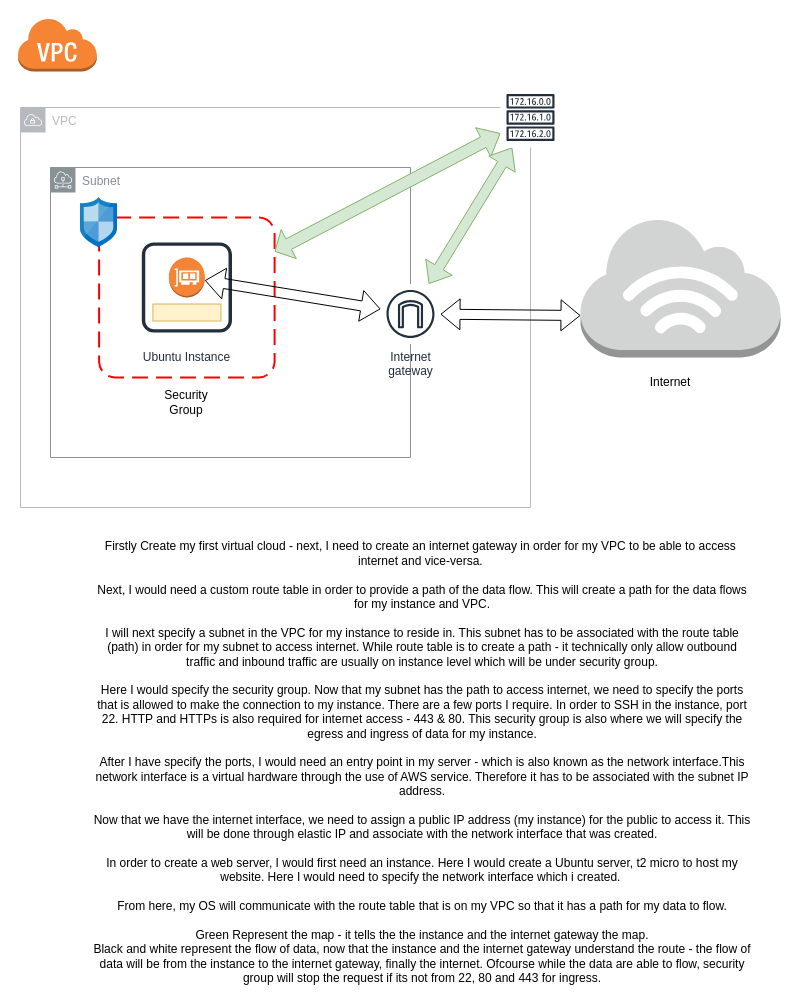
This 799x1003 diagram has some shape labels left out. Here are the shapes that lost their labels. From the top down, the centre of each, then its label:
At point (530, 117): "Route table".
At point (186, 312): "Internet Interface".
